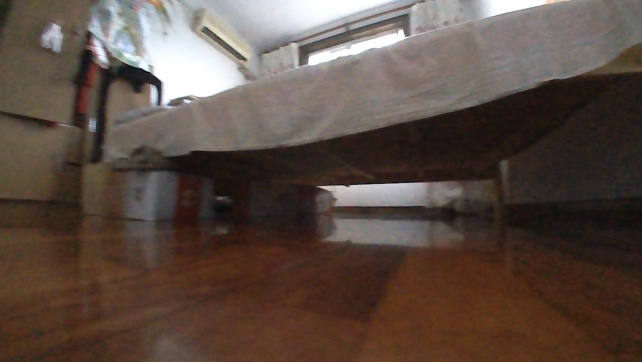bed: (100, 0, 641, 222)
